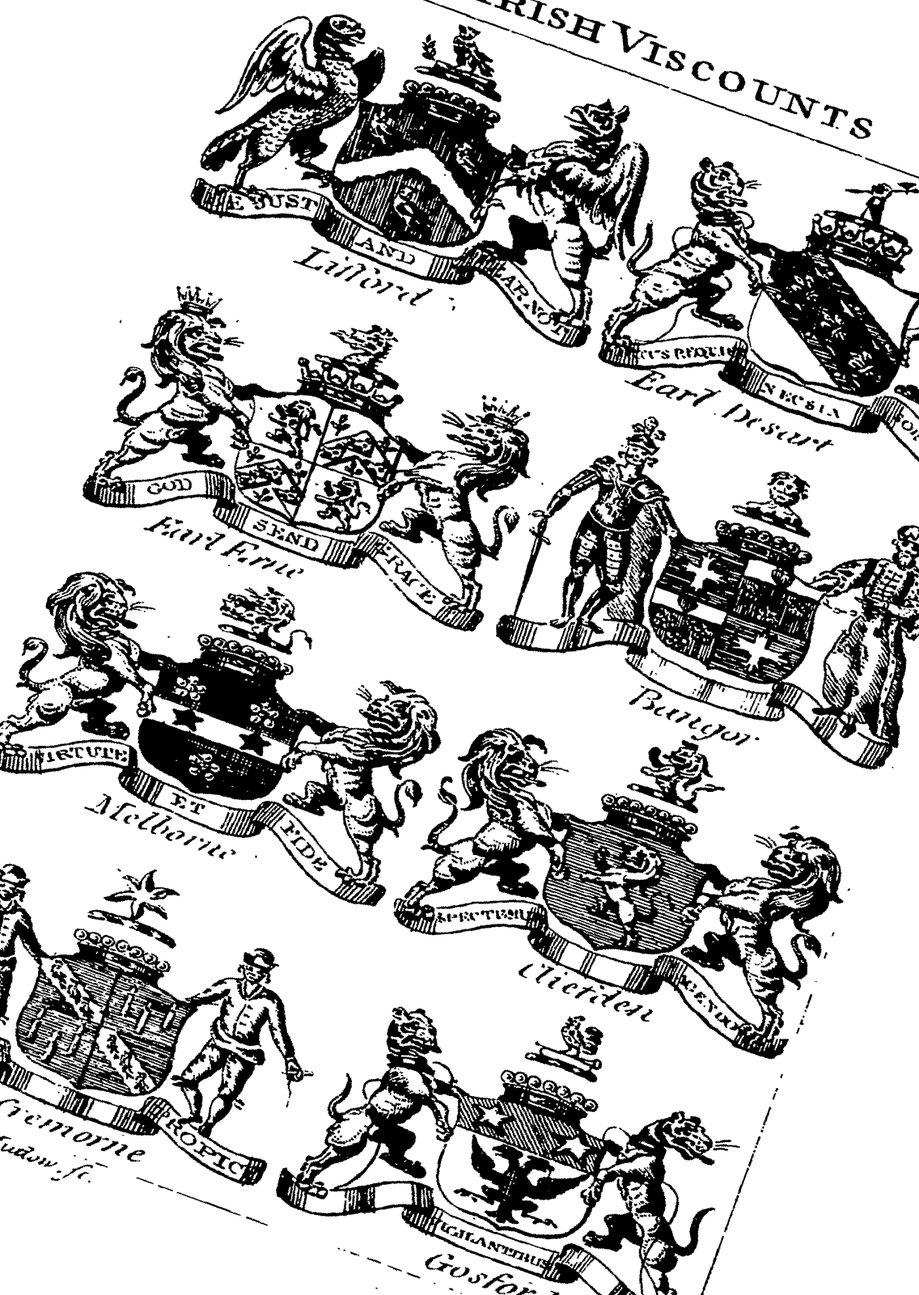coat_of_arms: (79, 279, 509, 627), (522, 405, 919, 760), (428, 691, 806, 1045), (221, 9, 618, 332), (33, 567, 398, 903), (299, 1006, 721, 1295), (1, 865, 274, 1217), (633, 143, 919, 454)
